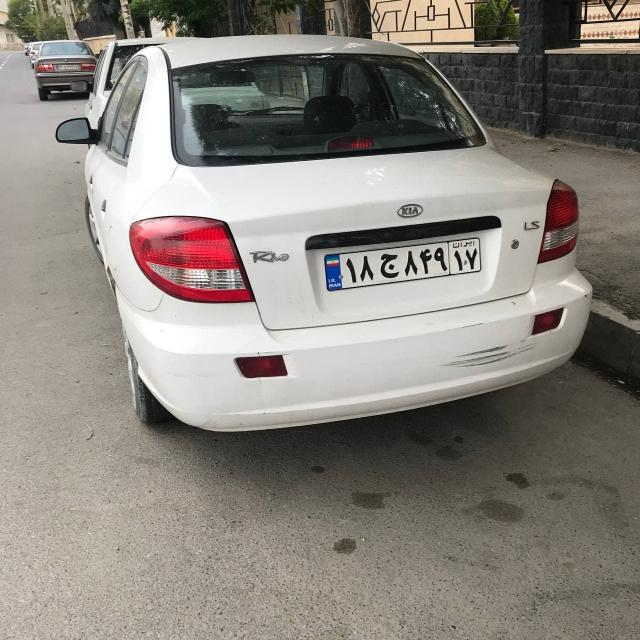Plates: (323, 236, 483, 291)
